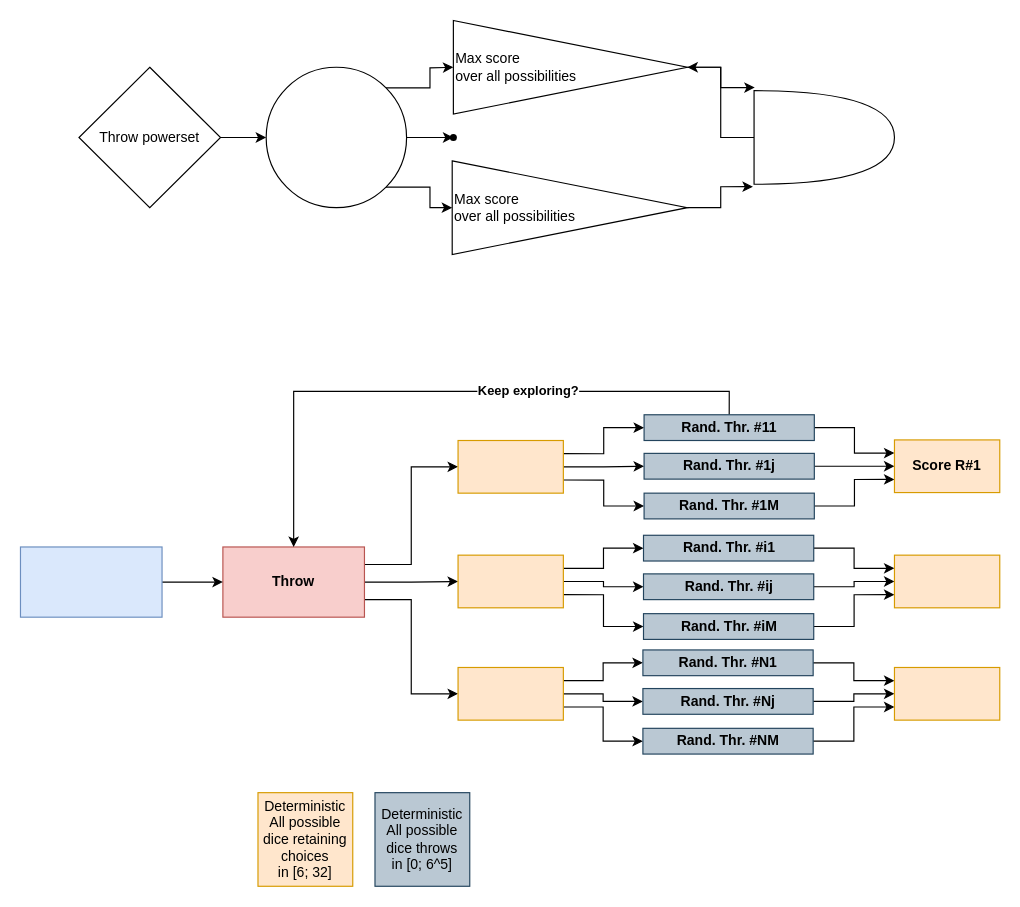
This 1020x907 diagram has some shape labels left out. The shapes that lost their labels are listed below. From the top down, each one's centre as x and y in pixels, then its label:
At (336,137): "Random throw".
At (823,137): "Best throw".
At (510,466): "Retain #1".
At (90,581): "Sheet".
At (510,581): "Retain #i".
At (946,581): "Score R#i".
At (510,693): "Retain #N".
At (946,693): "Score R#N".
